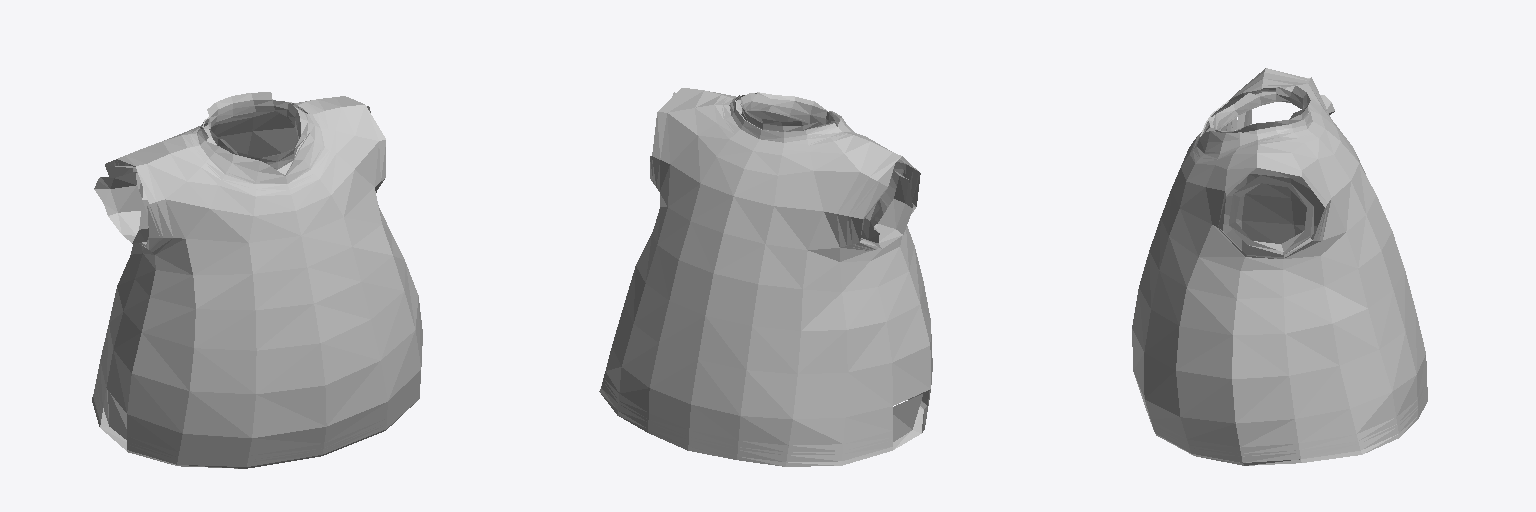
The model's file is cuerpok.obj.
The picture shows the model from 3 angles: view 1: azimuth 30°, elevation 25°; view 2: azimuth 150°, elevation 25°; view 3: azimuth 270°, elevation 25°; orthographic projection.
Parts seen in each view (by area): view 1: polySurface73 polySurface58 polySurface55 polySurface44 polySurf; view 2: polySurface73 polySurface58 polySurface55 polySurface44 polySurf; view 3: polySurface73 polySurface58 polySurface55 polySurface44 polySurf.
Part boxes in pixels (bbox=[...]): polySurface73 polySurface58 polySurface55 polySurface44 polySurf: bbox=[92, 92, 422, 468]; polySurface73 polySurface58 polySurface55 polySurface44 polySurf: bbox=[599, 88, 932, 466]; polySurface73 polySurface58 polySurface55 polySurface44 polySurf: bbox=[1132, 68, 1427, 465].
Size of the model in its own units: 1.32 by 1.32 by 1.16.